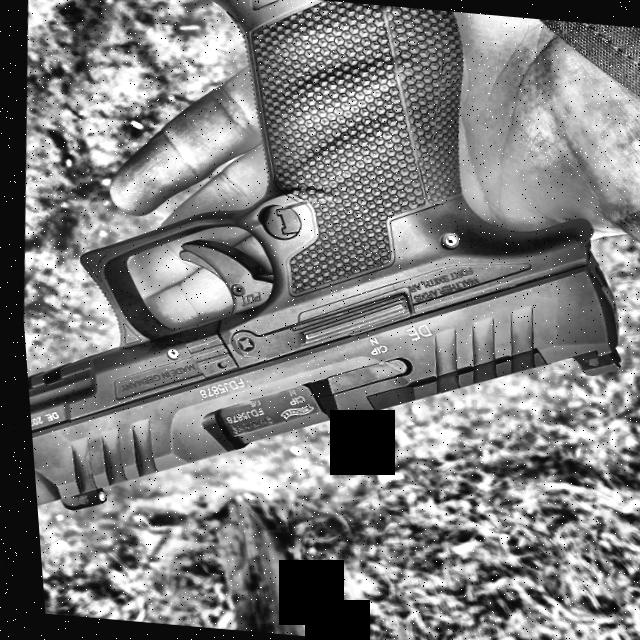Walther: (0, 0, 640, 561)
